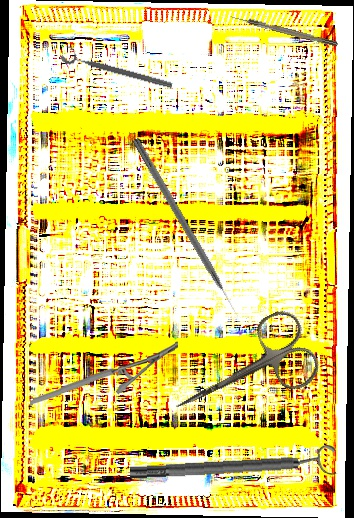Fixation Ring: (129, 443, 337, 489), (58, 43, 176, 92)
Hook Surgical: (130, 137, 242, 319), (229, 13, 339, 48)
Iris Scissors: (157, 305, 326, 441)
Needle Holder: (28, 341, 180, 406)
